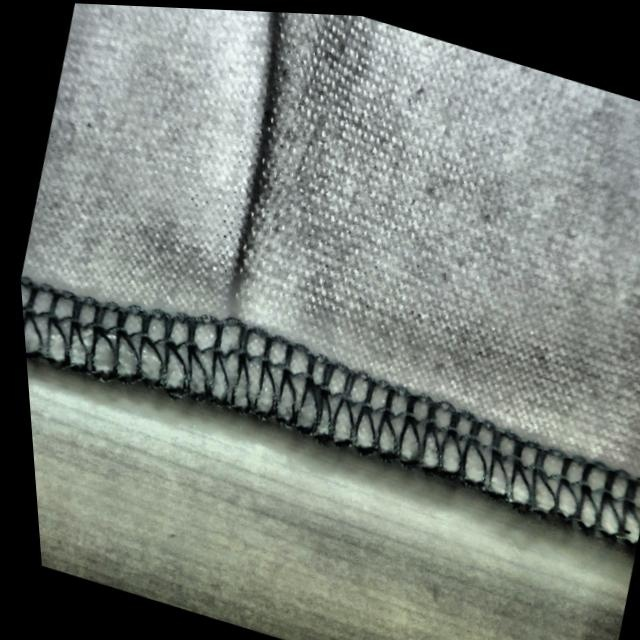seam: (127, 69, 380, 444)
